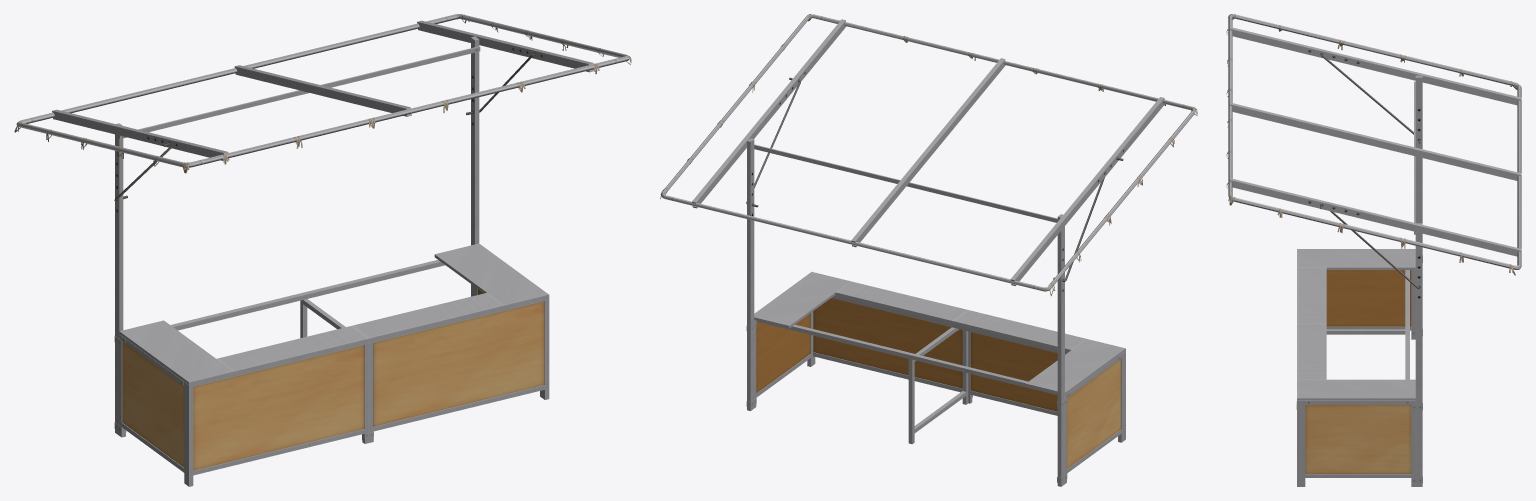
Rendered from jsf_2P_s03_c05_t04.fbx.
3 views of the same model, side by side, from view 1: azimuth 30°, elevation 25°; view 2: azimuth 150°, elevation 25°; view 3: azimuth 270°, elevation 25° (orthographic). The views are drawn at different scales.
Parts seen in each view (by area): view 1: Base_s03_c05, Pillar2_s03, Table_2P_s03_t04, Rope_2P_s03; view 2: Base_s03_c05, Pillar2_s03, Table_2P_s03_t04, Support; view 3: Pillar2_s03, Base_s03_c05, Table_2P_s03_t04, Rope_2P_s03, Support.
Part boxes in pixels (x1,y1,x2,y2): Base_s03_c05: [114, 287, 549, 486]; Pillar2_s03: [16, 14, 629, 435]; Table_2P_s03_t04: [119, 243, 547, 385]; Rope_2P_s03: [14, 14, 631, 173]; Base_s03_c05: [746, 271, 1125, 483]; Pillar2_s03: [660, 14, 1196, 486]; Table_2P_s03_t04: [754, 272, 1125, 397]; Support: [908, 327, 968, 444]; Pillar2_s03: [1228, 14, 1521, 486]; Base_s03_c05: [1296, 249, 1422, 486]; Table_2P_s03_t04: [1298, 249, 1415, 404]; Rope_2P_s03: [1226, 14, 1517, 275]; Support: [1326, 329, 1405, 334].
Bounding box in the file's own units: 316 × 244 × 211.
